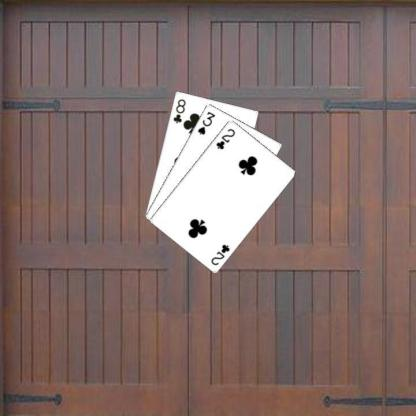2C: (214, 126, 236, 151), (209, 242, 231, 266)
3S: (195, 108, 216, 136)
8C: (170, 96, 186, 124)
